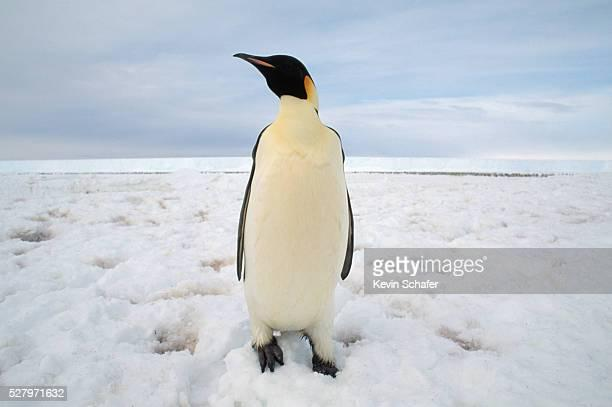emporer: (218, 37, 361, 376)
